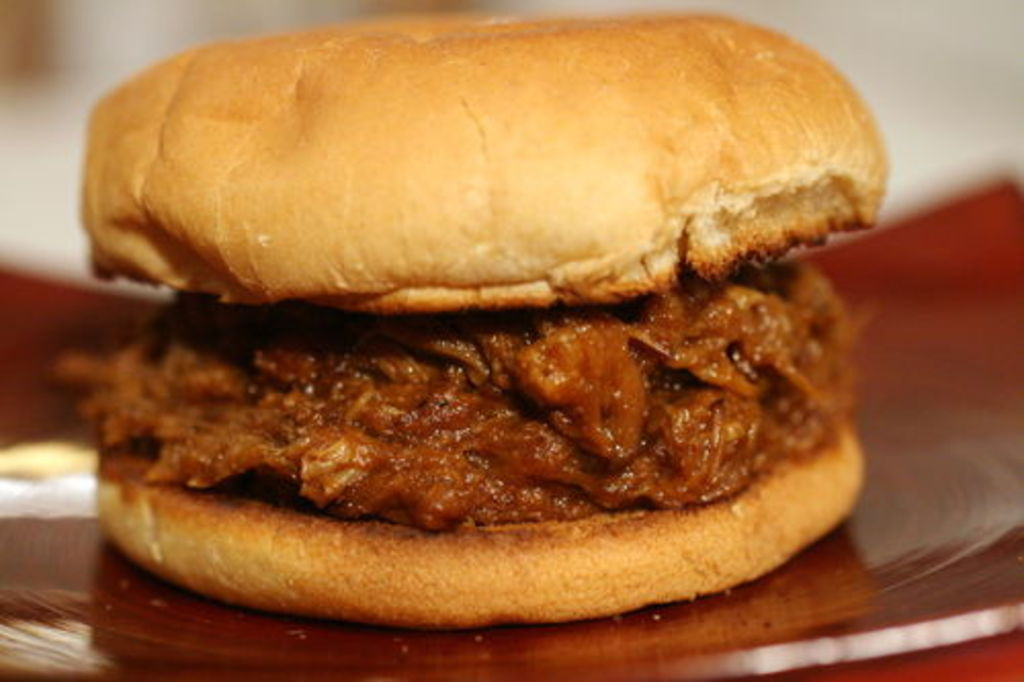Hamburger: (59, 14, 888, 628)
